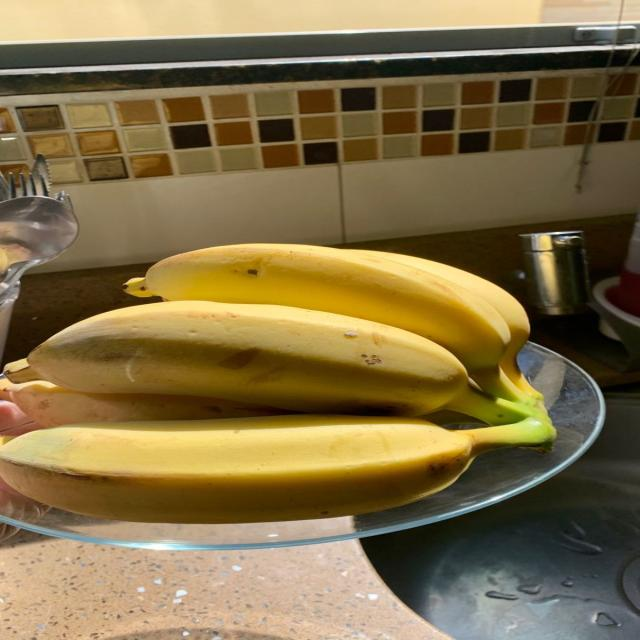unpeal banana: (5, 301, 535, 423), (125, 244, 528, 401), (0, 415, 554, 523), (350, 250, 541, 399), (0, 380, 287, 427)
